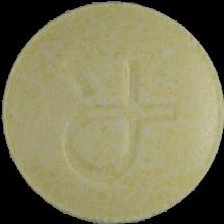60429-153: (0, 0, 224, 224)
